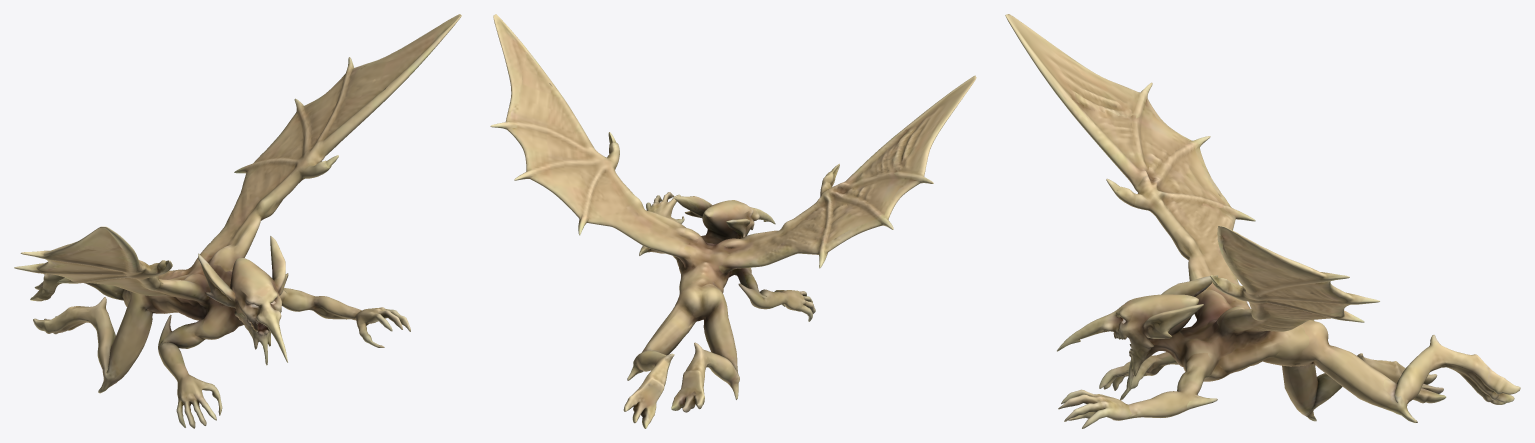
File: MZ4250 - Dust Mephit_4 2025.glb
3 views of the same model, side by side, from view 1: azimuth 30°, elevation 25°; view 2: azimuth 150°, elevation 25°; view 3: azimuth 270°, elevation 25° (orthographic). The views are drawn at different scales.
Visible parts, largest first — view 1: Cylinder.001; view 2: Cylinder.001; view 3: Cylinder.001.
Part boxes in pixels (x1,y1,x2,y2): Cylinder.001: (14, 14, 461, 428); Cylinder.001: (490, 14, 976, 428); Cylinder.001: (1005, 14, 1520, 428).
Size of the model in its own units: 123 by 82.81 by 105.
Materials: 1 (1 with a texture image).
